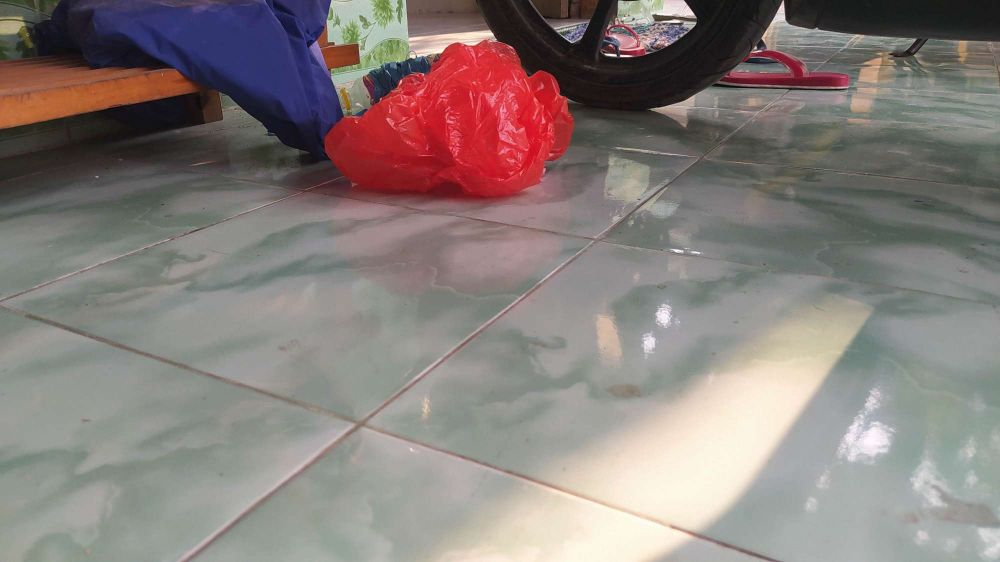plastik: (329, 39, 606, 209)
